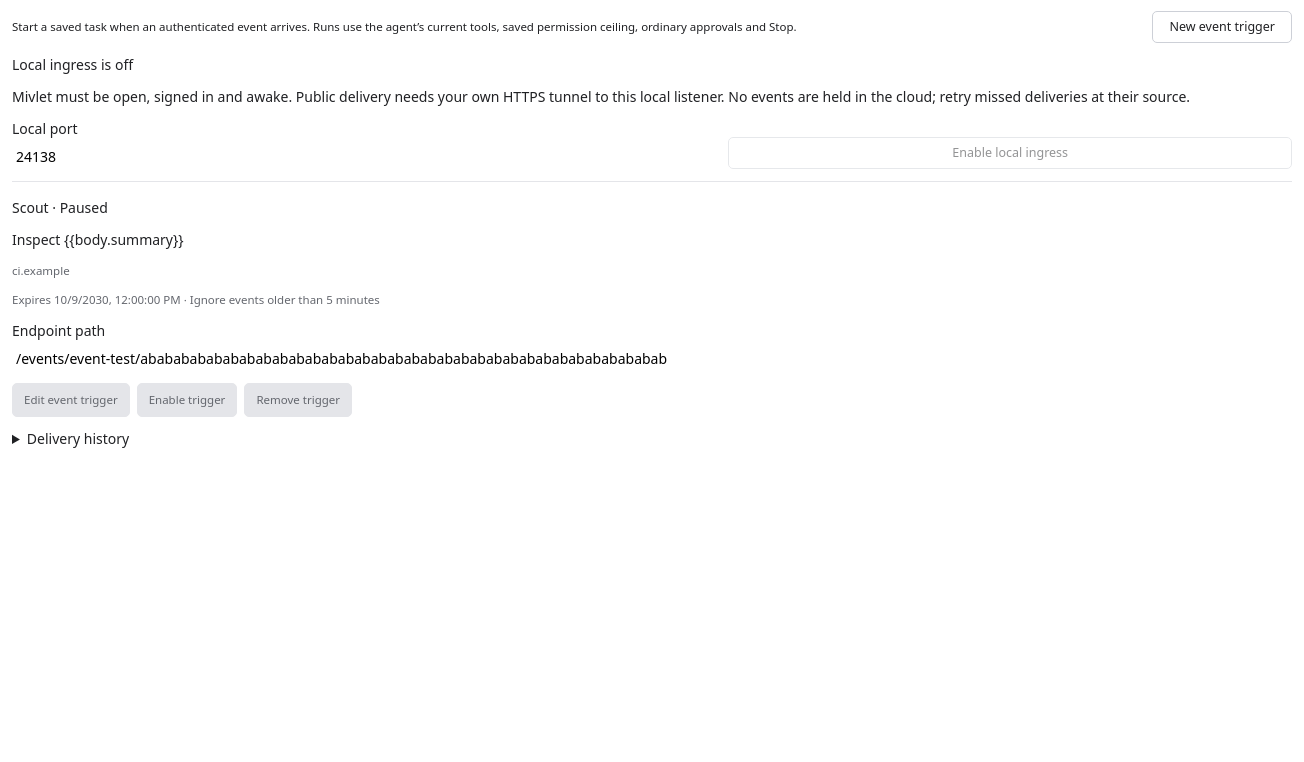
Test: Event automations › invalidates the preview when Ignore events older than (minutes) changes
Click the button "Edit event trigger". click: (71, 400)
box: [12, 382, 130, 416]
(page scrolled)
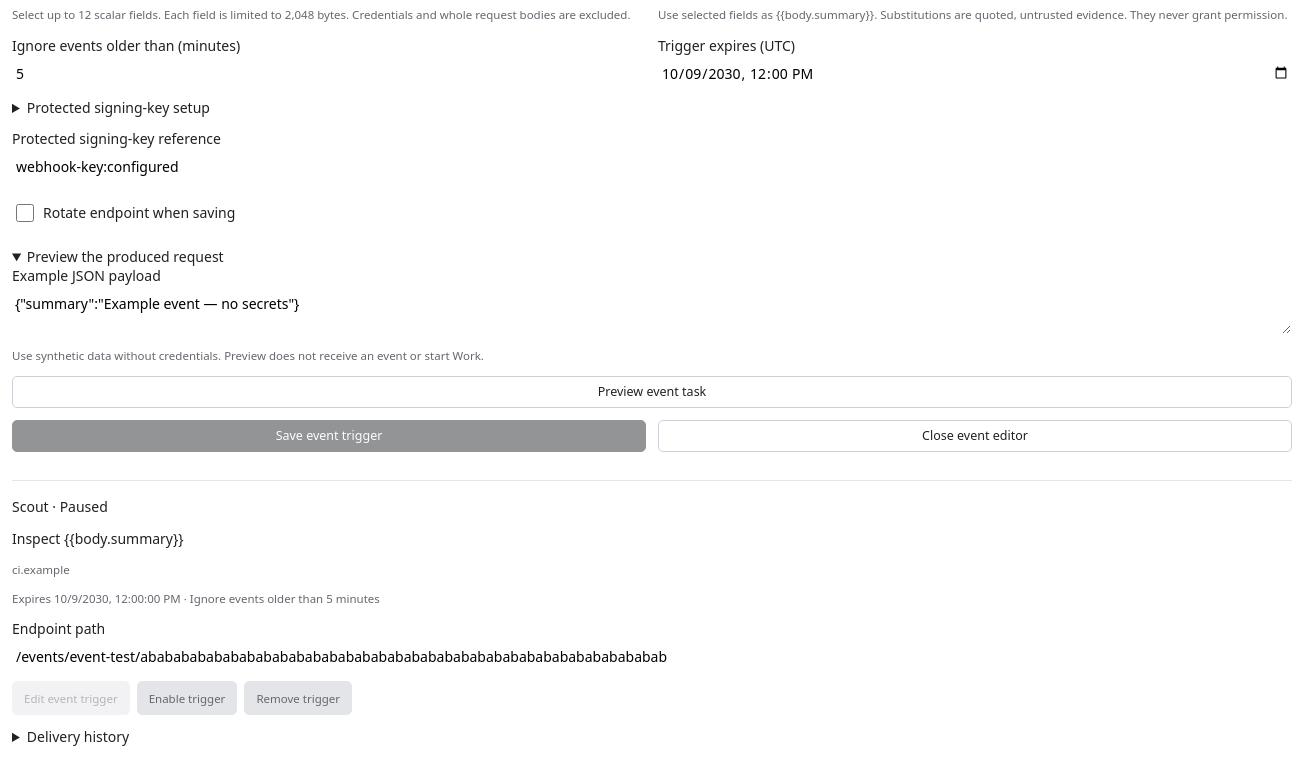
Click the button "Preview event task". click: (652, 392)
box: [12, 376, 1292, 408]
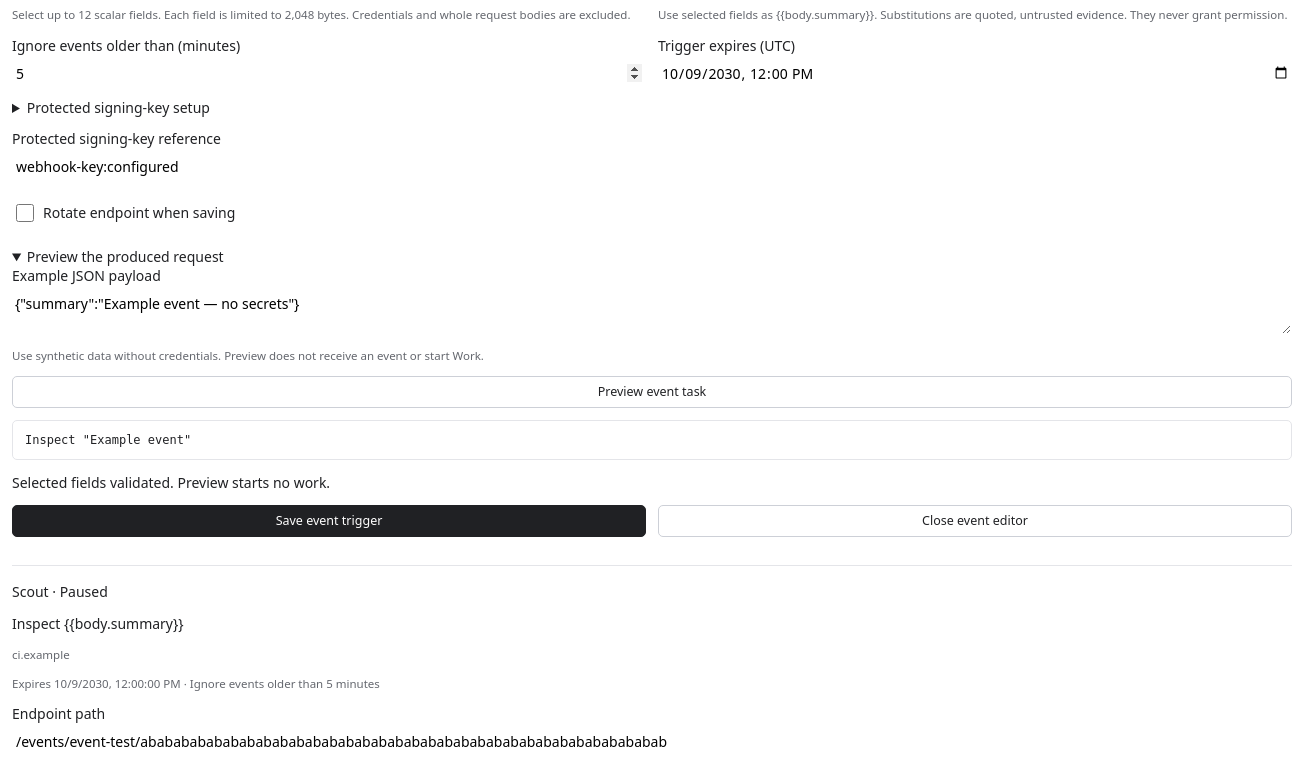
Result: the button "Save event trigger" is enabled at [12, 505, 646, 537]
Replace the text in the number field labelled "Ignore events older than (minutes)" with "6". click: (329, 73)
box: [12, 60, 646, 86]
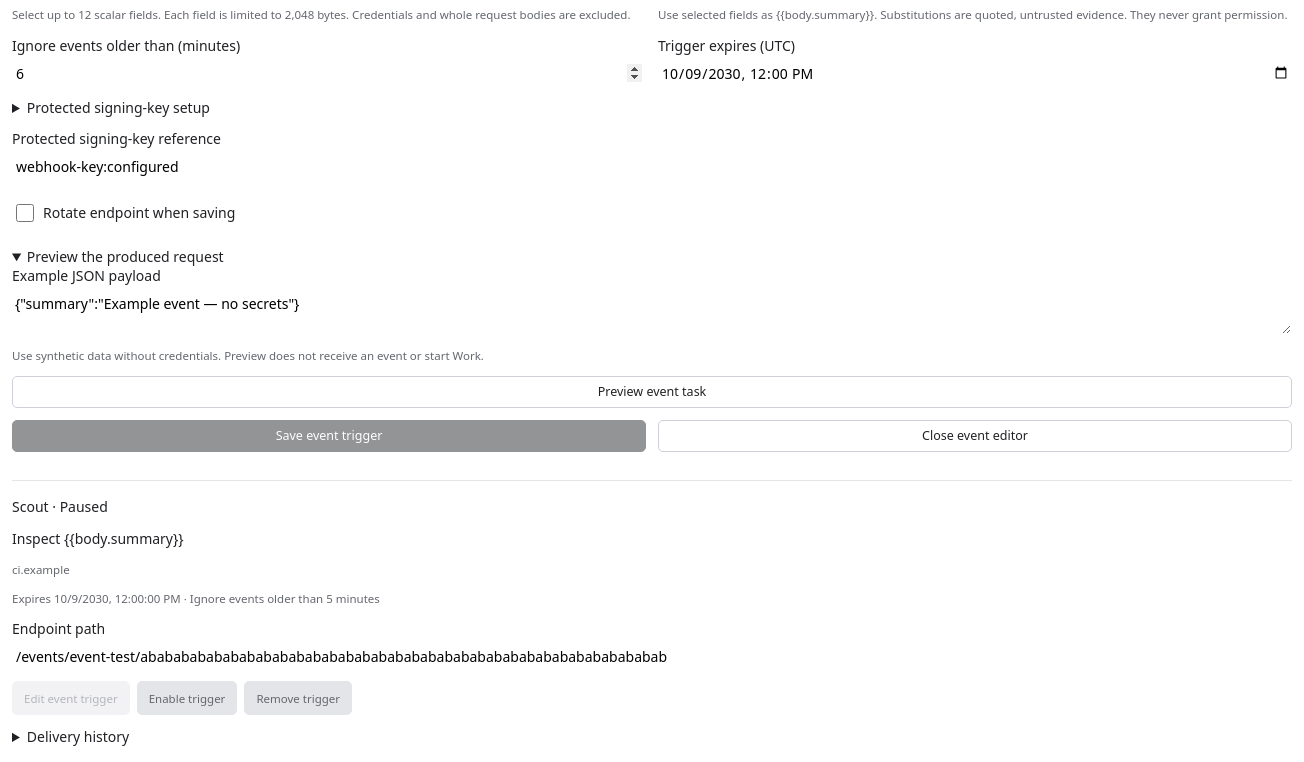
Result: the button "Save event trigger" is disabled at [12, 420, 646, 452]
